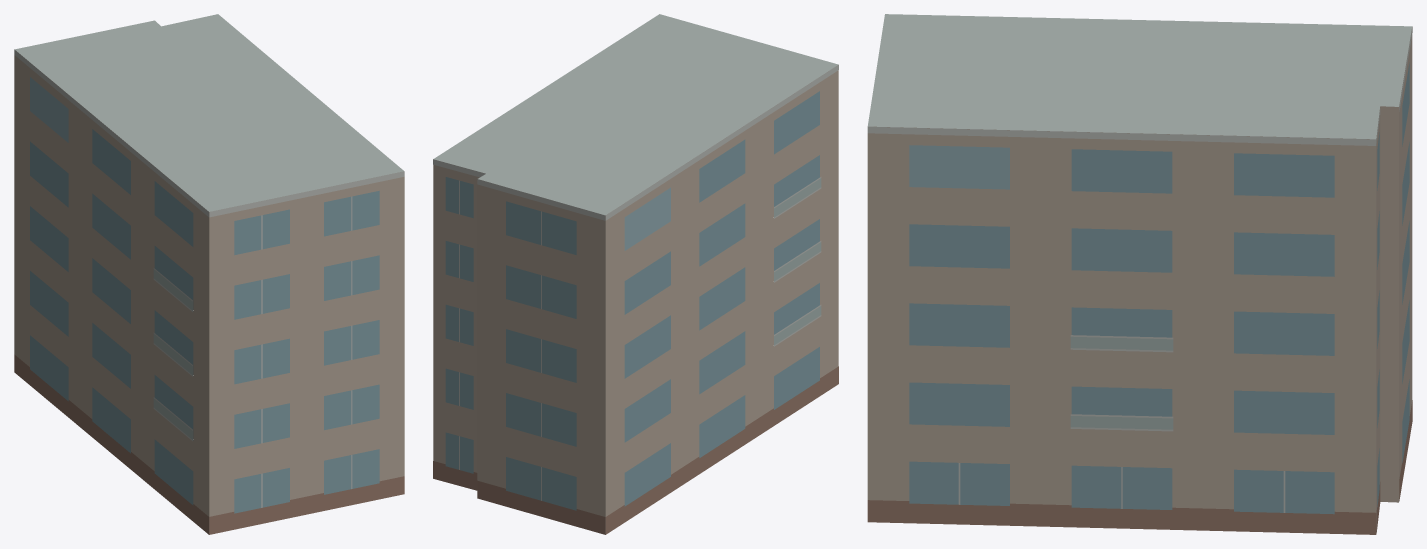
The model's file is survey-upis-32914441.glb.
3 views of the same model, side by side, from view 1: azimuth 30°, elevation 25°; view 2: azimuth 150°, elevation 25°; view 3: azimuth 270°, elevation 25° (orthographic). The views are drawn at different scales.
Parts seen in each view (by area): view 1: survey-upis-32914441.tmp; view 2: survey-upis-32914441.tmp; view 3: survey-upis-32914441.tmp.
Part boxes in pixels (x1,y1,x2,y2): survey-upis-32914441.tmp: (14, 14, 404, 534); survey-upis-32914441.tmp: (433, 14, 838, 534); survey-upis-32914441.tmp: (867, 14, 1412, 534).
Size of the model in its own units: 9.72 by 14.3 by 17.86.
